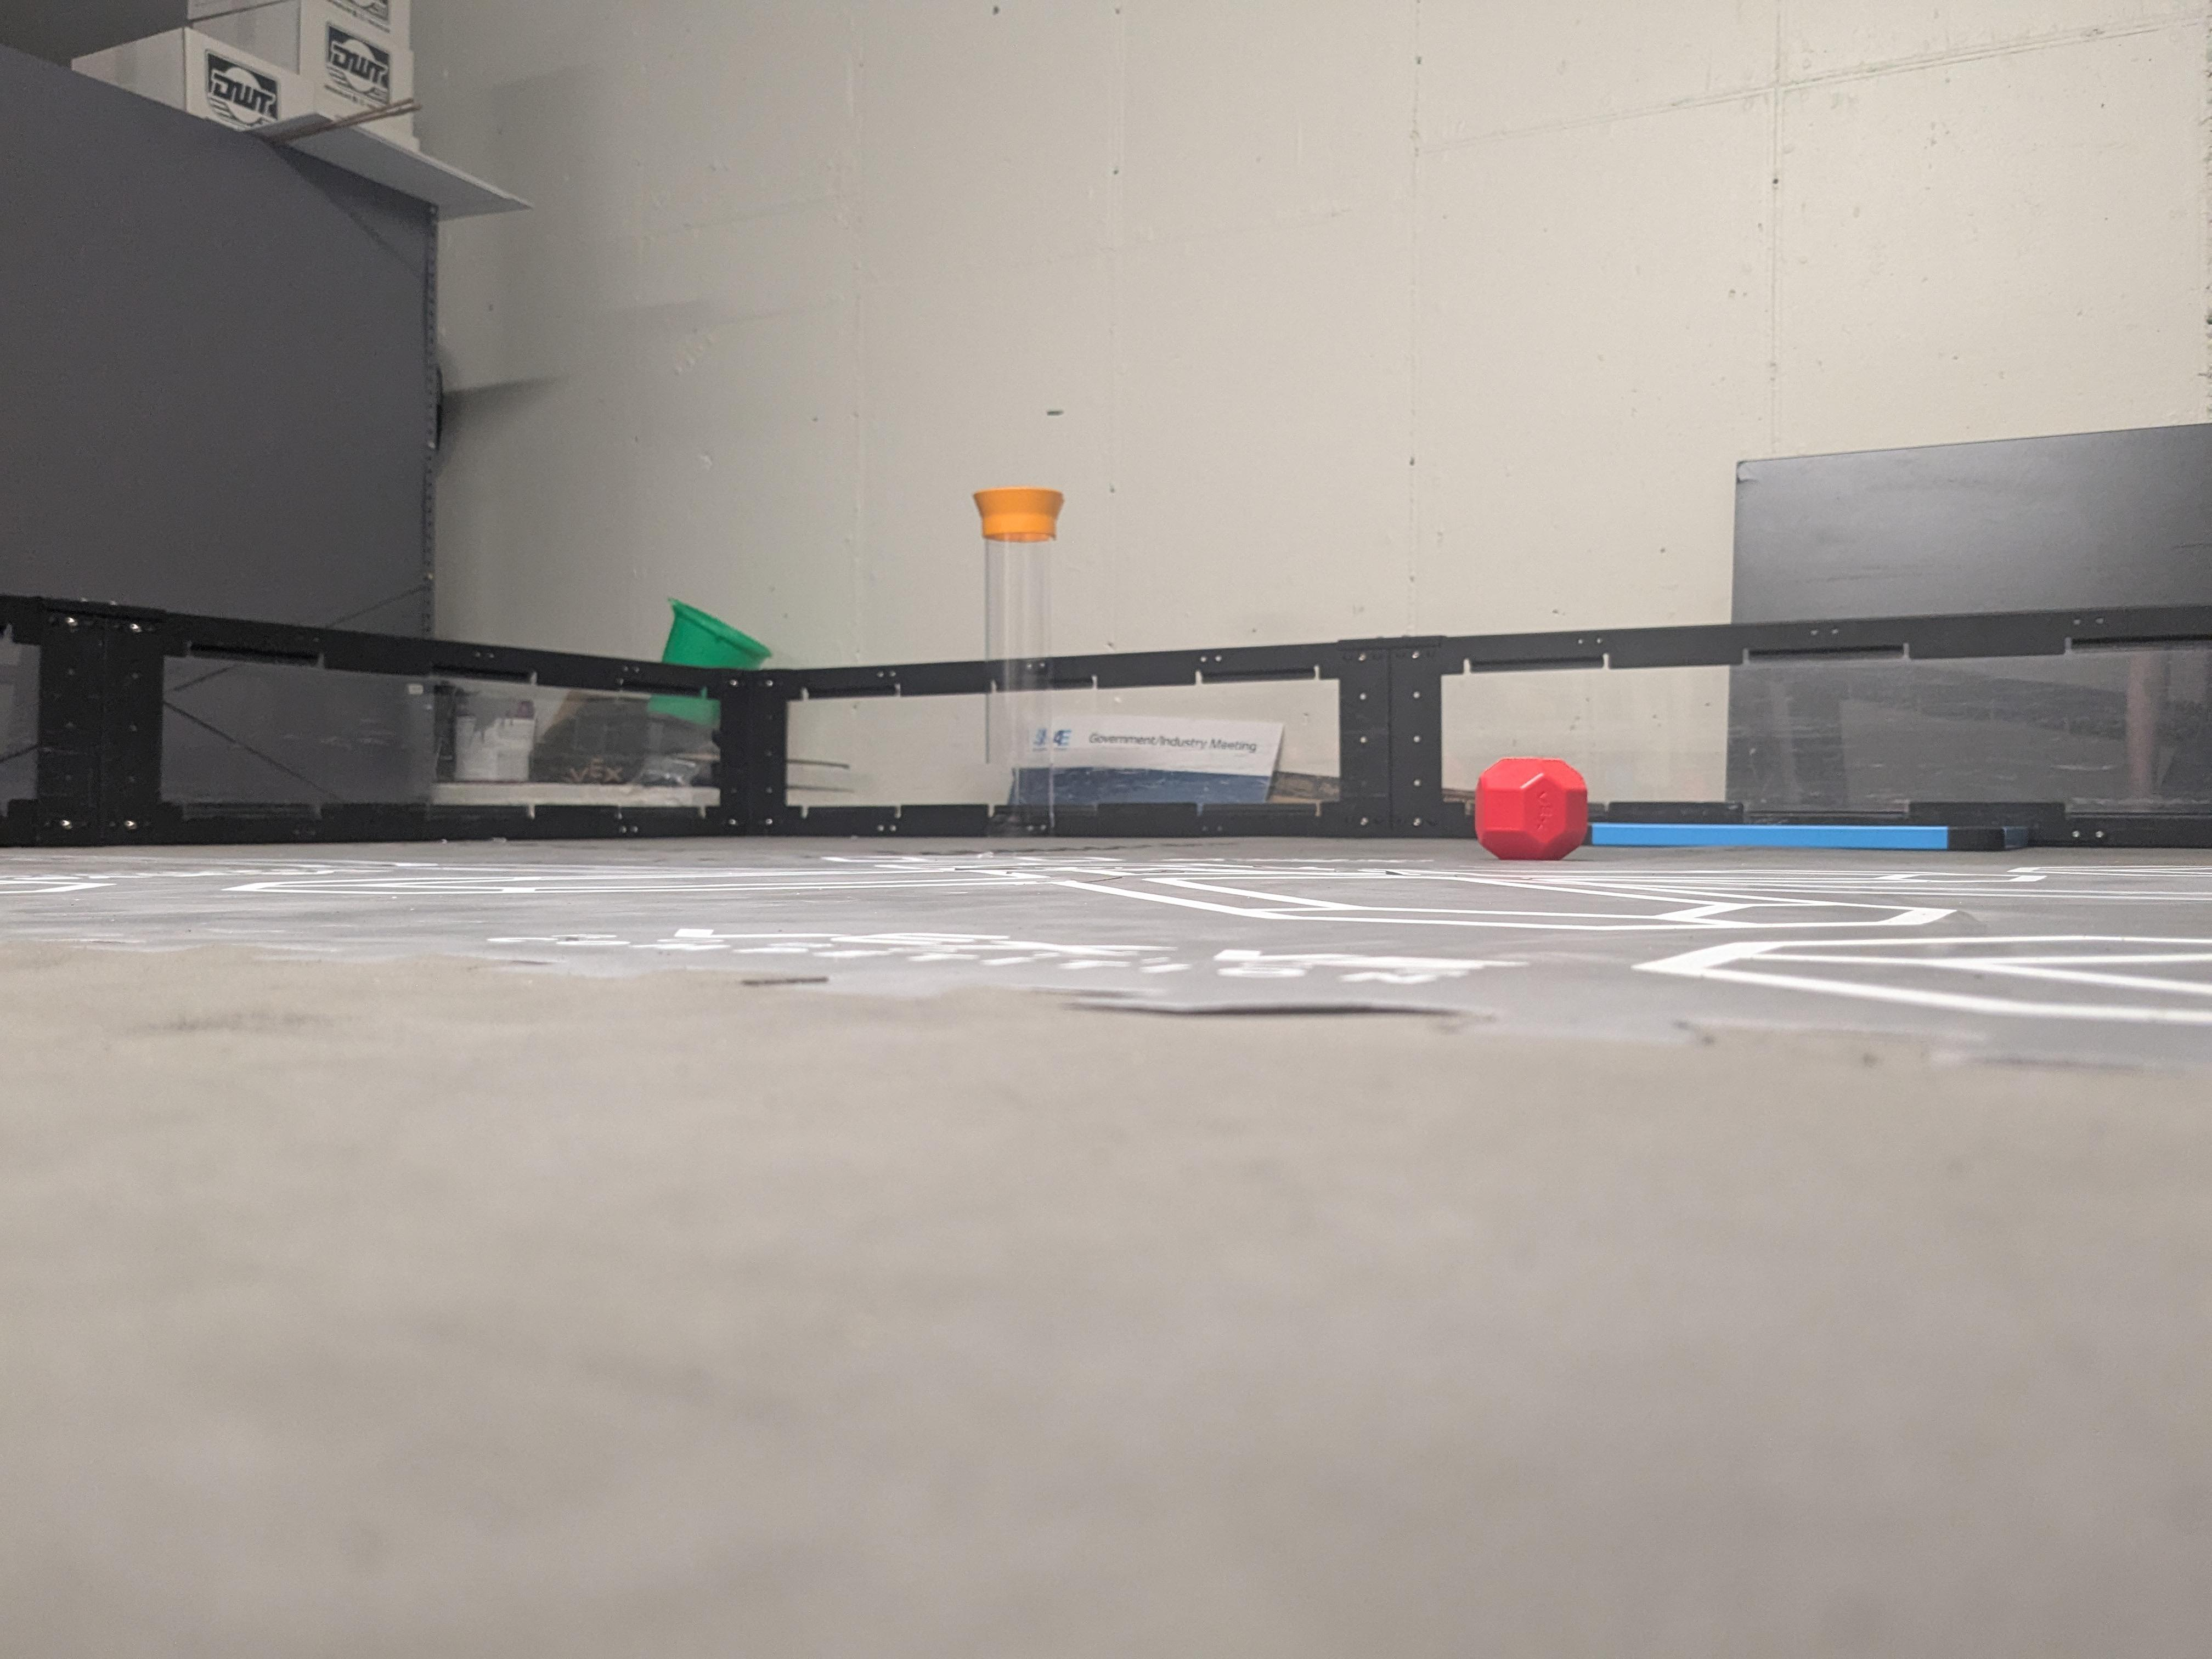Vex-Pieces-RED: (1475, 758, 1587, 859)
